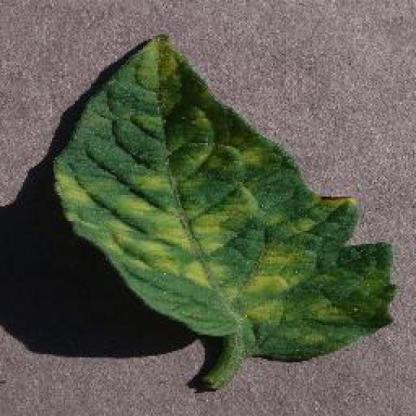Tomato_Leaf_Mold: (57, 35, 394, 359)
